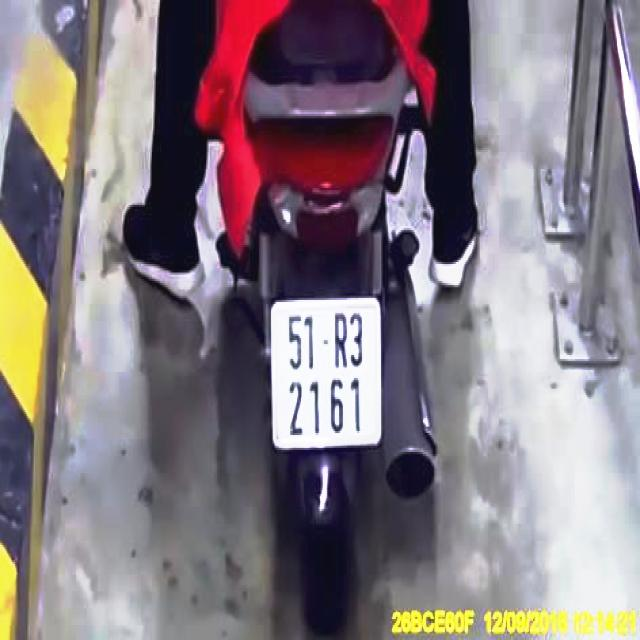license_plate: (273, 300, 382, 445)
